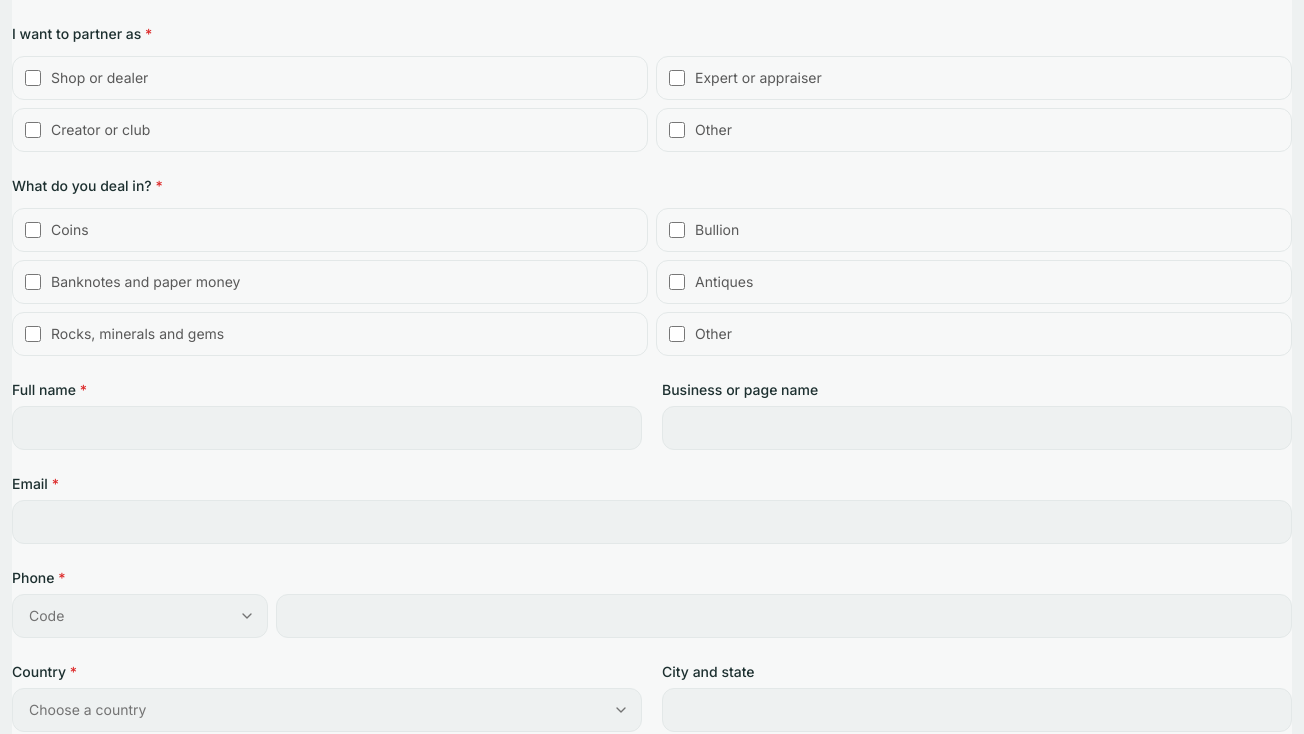
Test: partner form scenarios › asks for details only after Other is selected
expect the field labelled "How else do you want to partner" is not shown: met
expect the field labelled "What else do you deal in" is not shown: met
Click the checkbox labelled "Other" in the row of "Creator or club".
click(677, 130)  # box [669, 122, 685, 138]
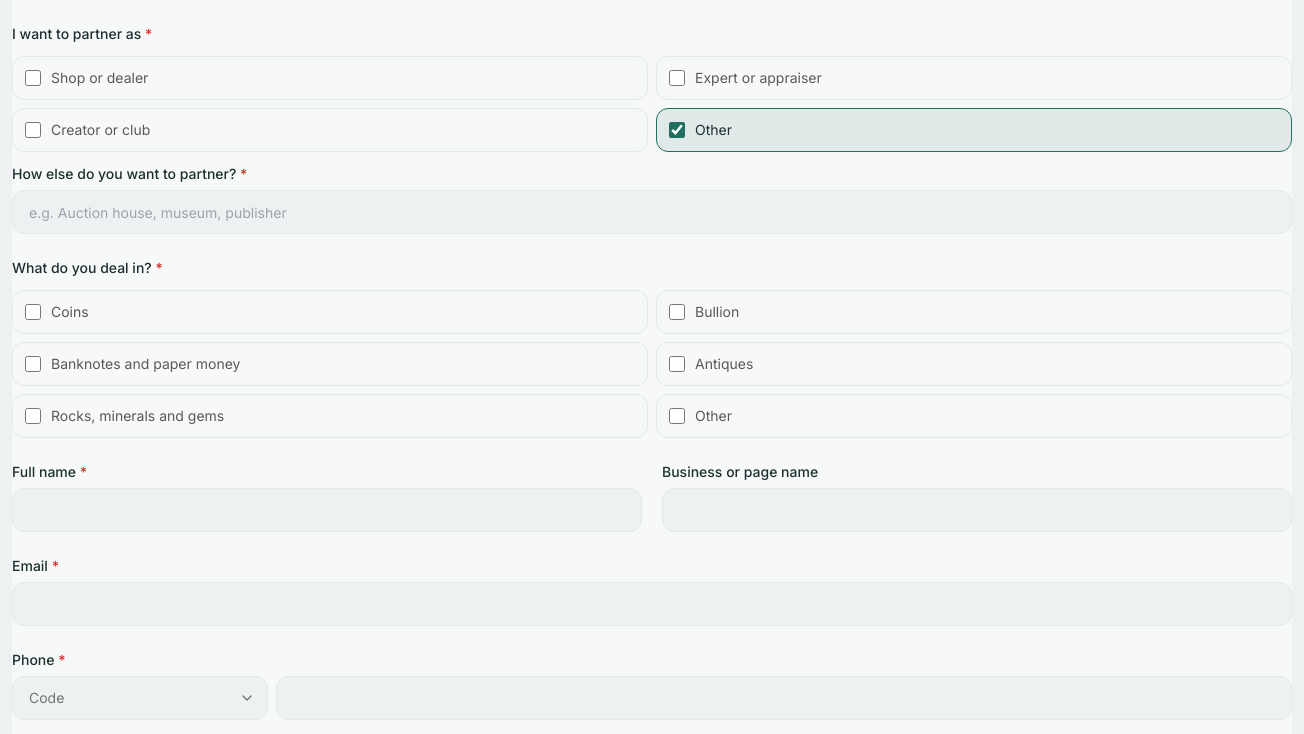
Click the checkbox labelled "Other" in the row of "Rocks, minerals and gems".
click(677, 416)  # box [669, 408, 685, 424]
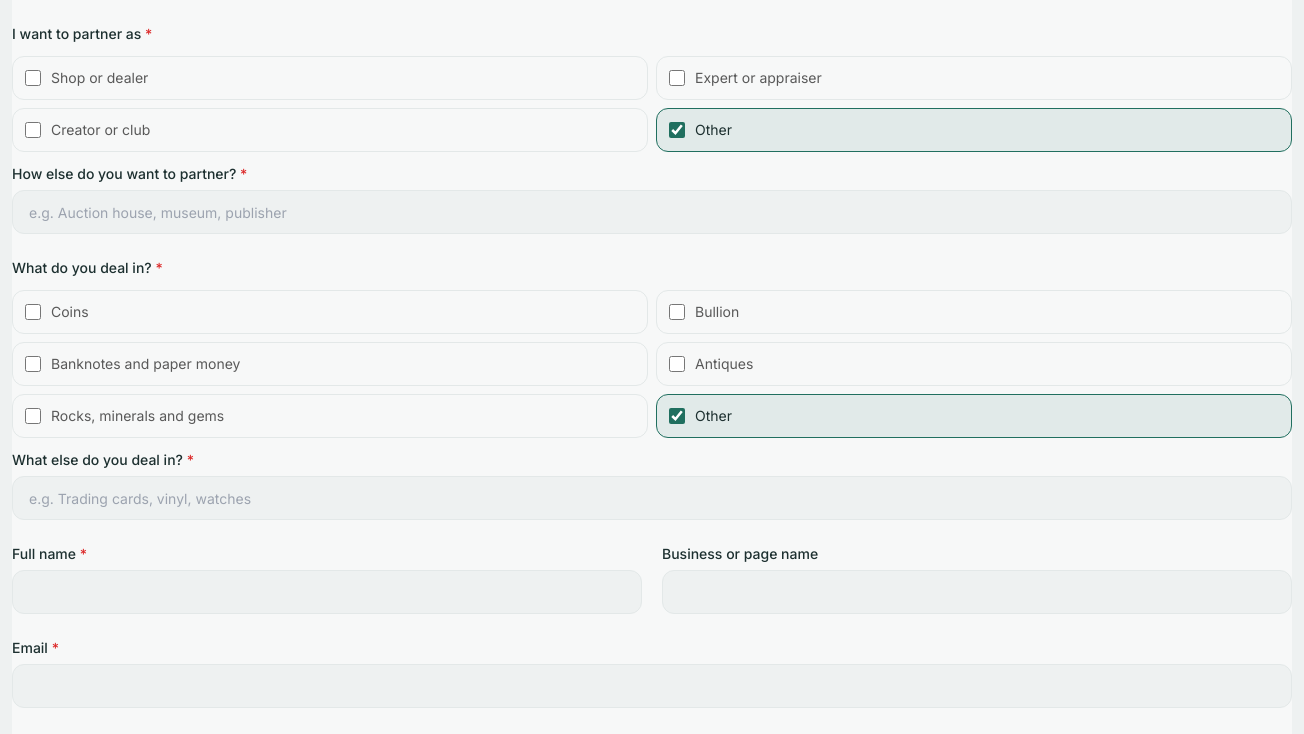
expect the field labelled "How else do you want to partner? *" is shown: met, box [12, 190, 1292, 234]
expect the field labelled "What else do you deal in? *" is shown: met, box [12, 476, 1292, 520]
Click the checkbox labelled "Other" in the row of "Creator or club".
click(677, 130)  # box [669, 122, 685, 138]
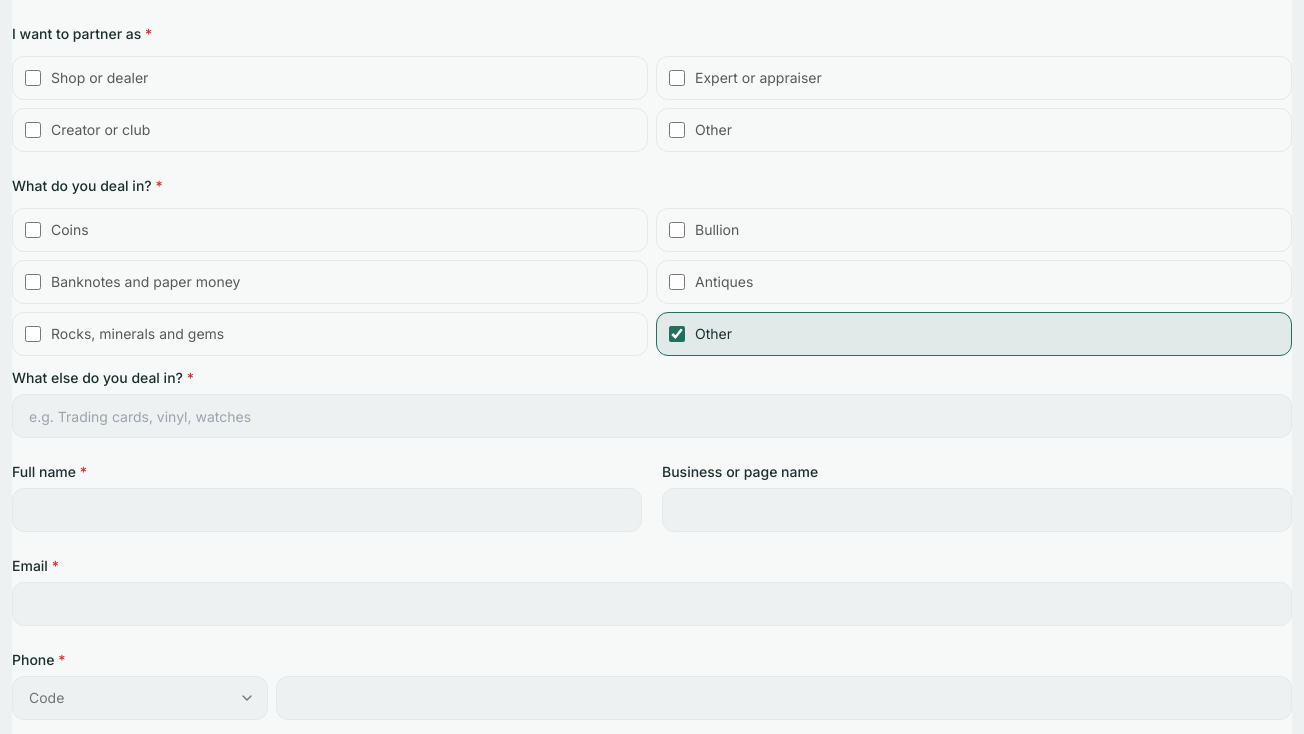
expect the field labelled "What else do you deal in? *" is shown: met, box [12, 394, 1292, 438]
expect the label labelled "How else do you want to partner" is gone: met
